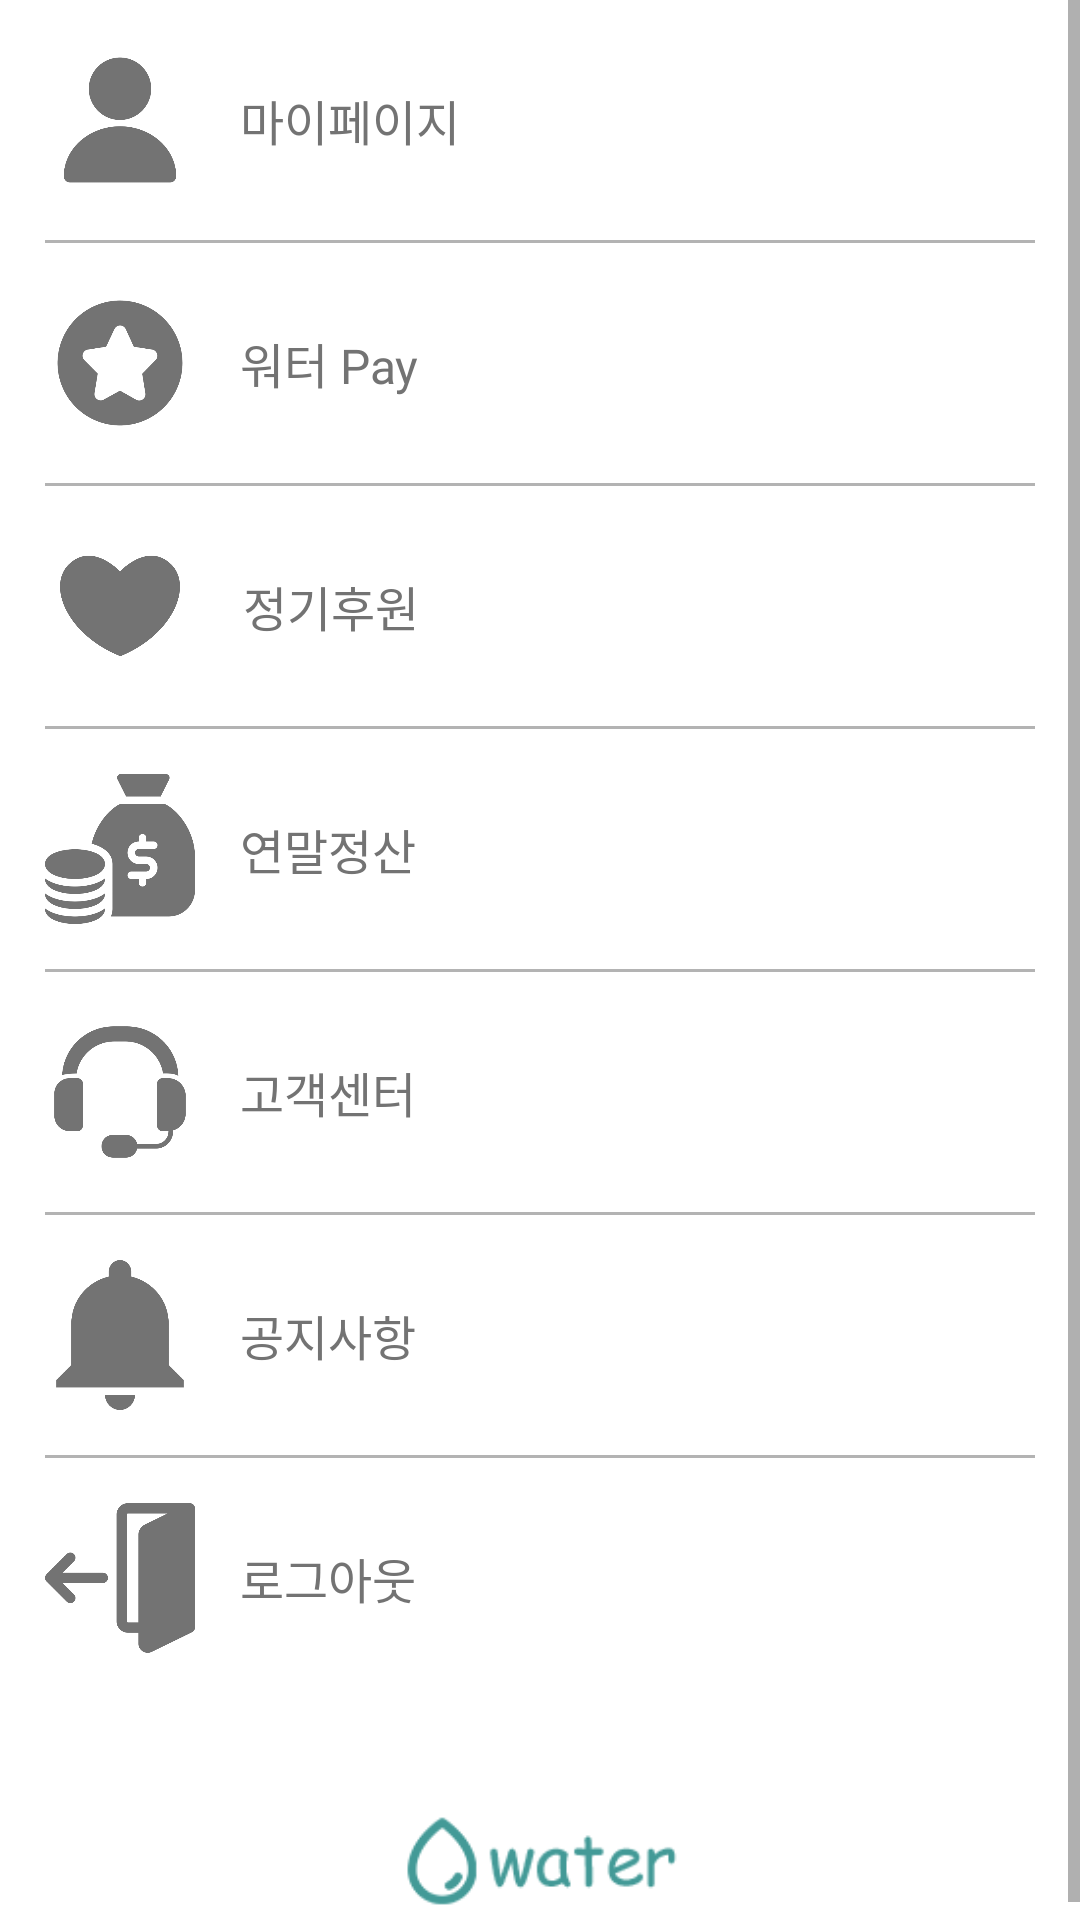

Screen size 1080 x 1920. Icon name, then its center in pixels as (x=x, y=y):
heart: (x=120, y=606)
money: (x=120, y=849)
notification: (x=120, y=1335)
operator: (x=120, y=1092)
point: (x=120, y=363)
user: (x=120, y=120)
